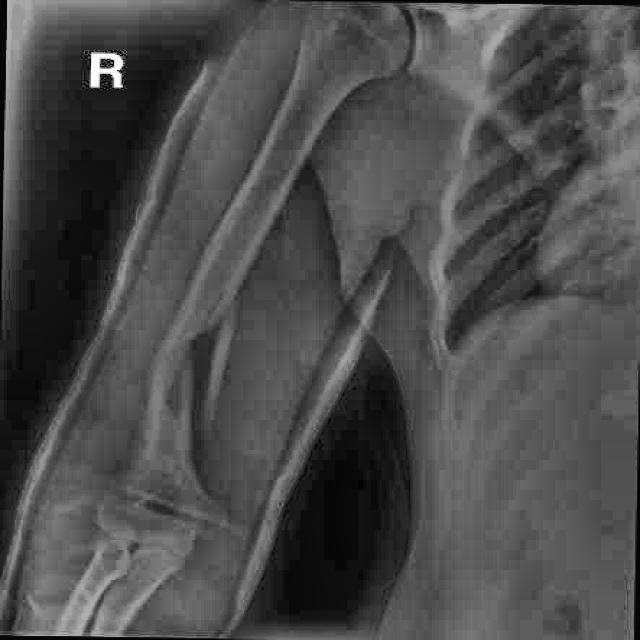humerus: (98, 277, 294, 480)
